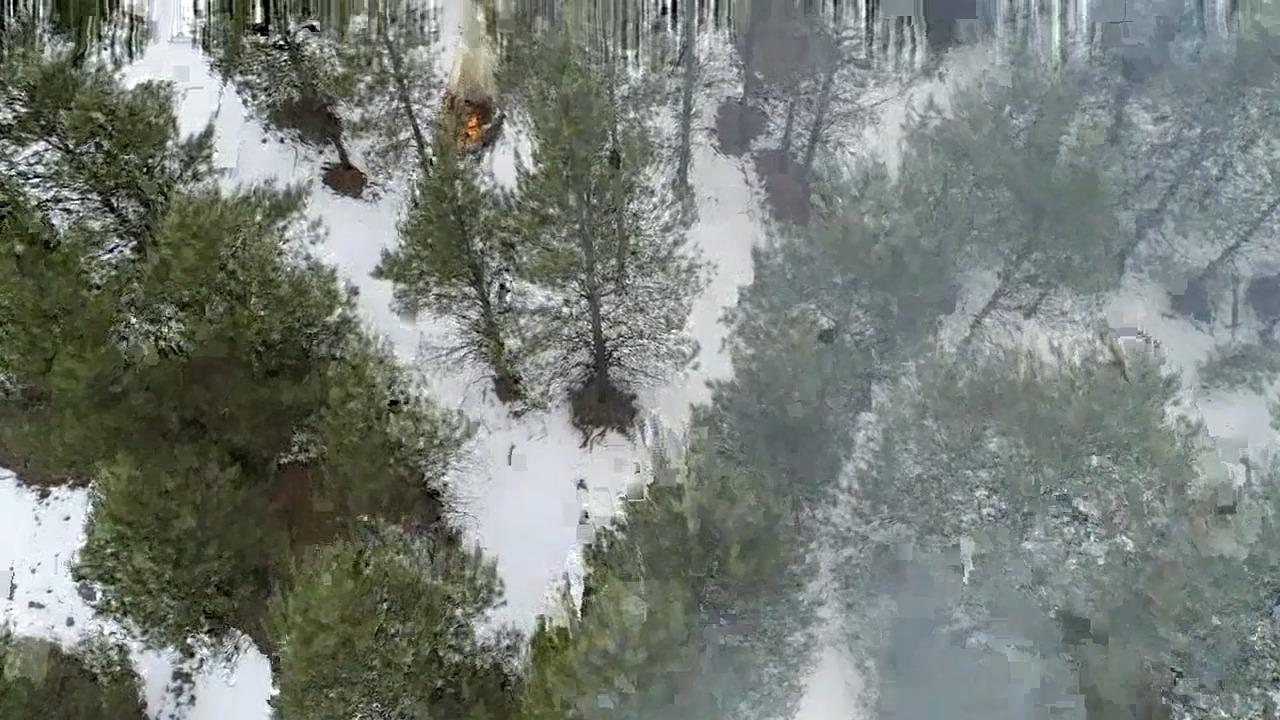fire: (454, 96, 489, 138)
